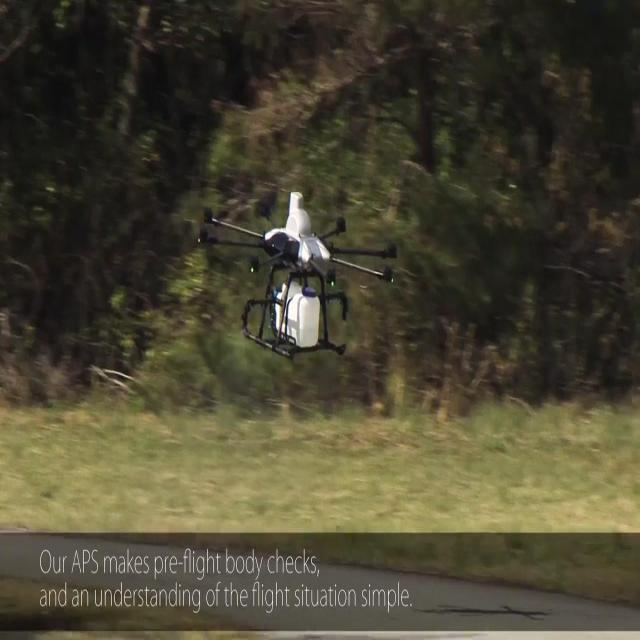drone: (196, 189, 397, 363)
